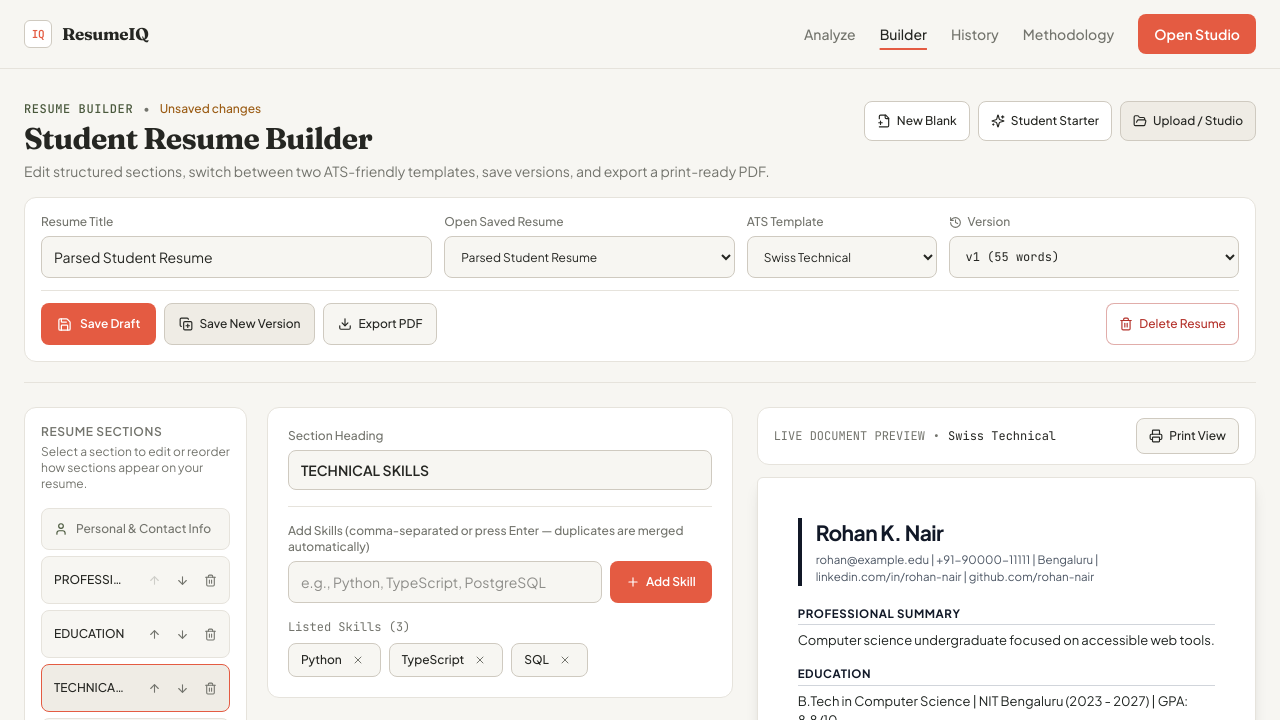
Test: Phase 6 Student Resume Builder › opens an existing parsed resume, supports editing sections, deduplicates skills, reorders, switches templates without content loss, and saves versions
This screenshot has width=1280, height=720.
Earlier steps of the test are not shown.
Later steps or results of the test are not shown.
Step 1. Click the button named "Move TECHNICAL SKILLS up" → [155, 688], box [141, 674, 169, 702]
(page scrolled)
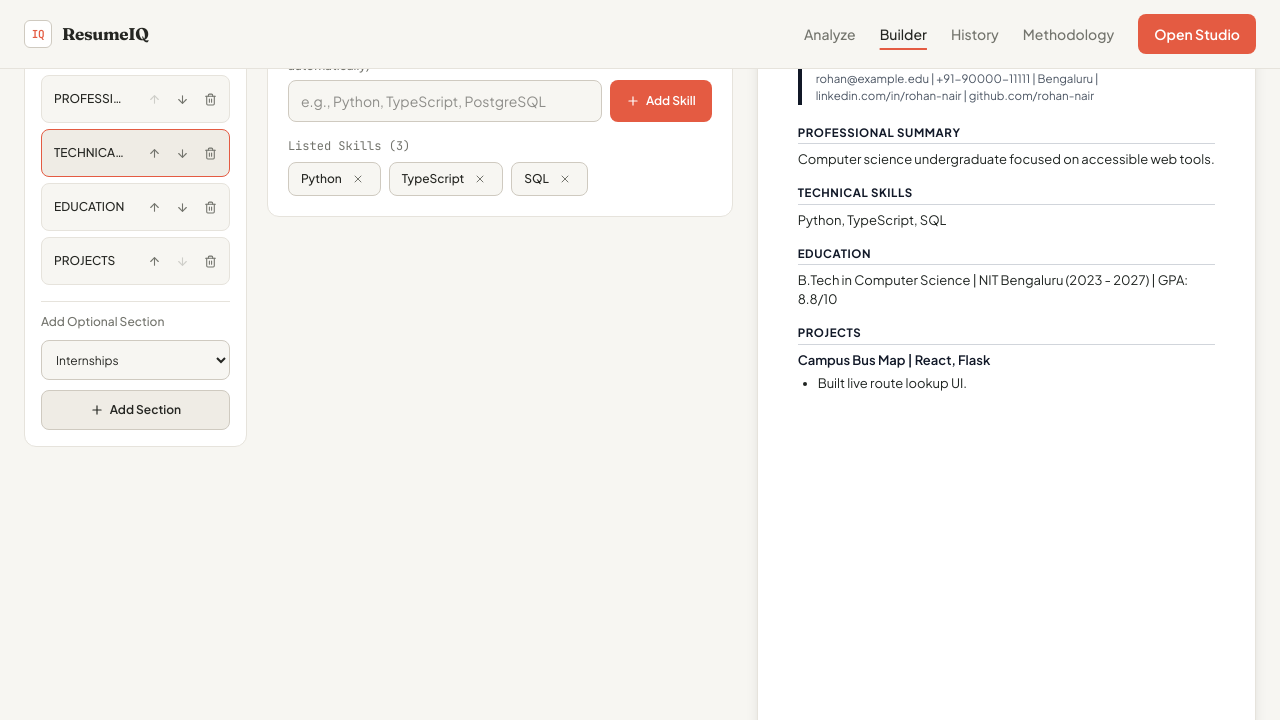
Step 2. Select "Work Experience" in the dropdown labelled "Add Optional Section" → [135, 360], box [41, 340, 230, 380]
Step 3. Click the button "Add Section" → [135, 410], box [41, 390, 230, 430]
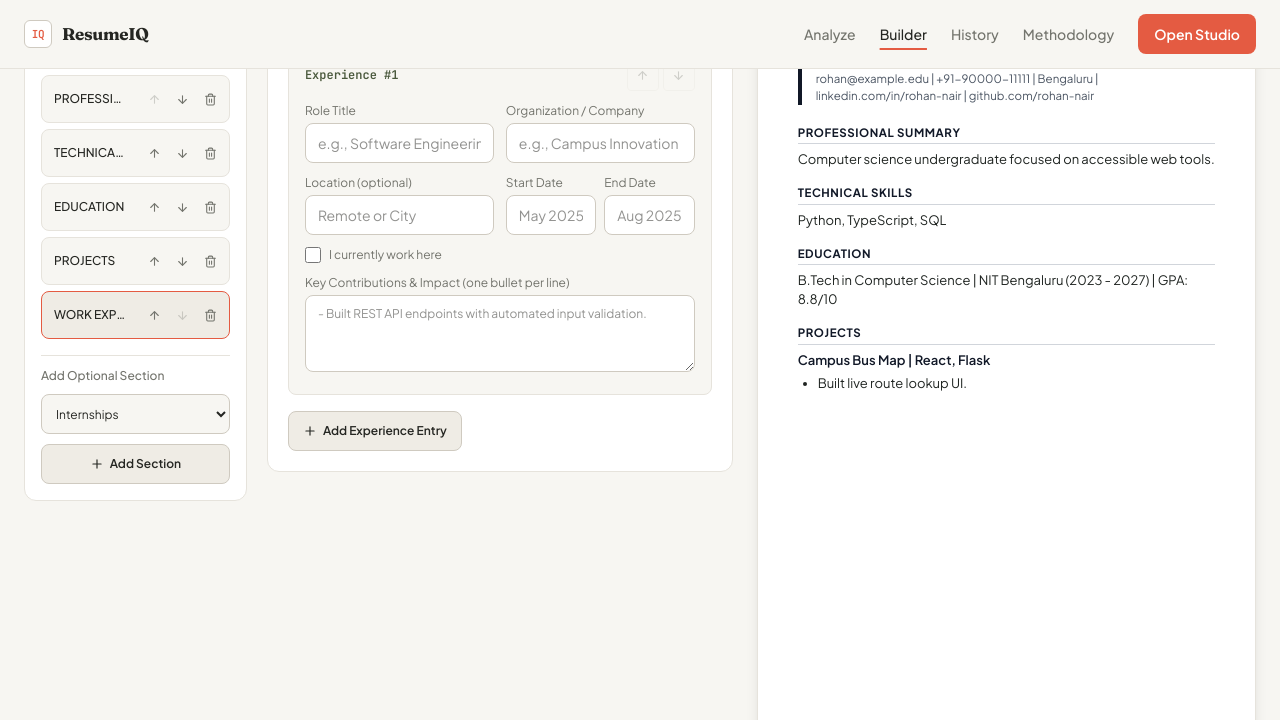
Step 4. Type "Teaching Assistant" into the field labelled "Role Title" → [399, 143], box [305, 123, 494, 163]
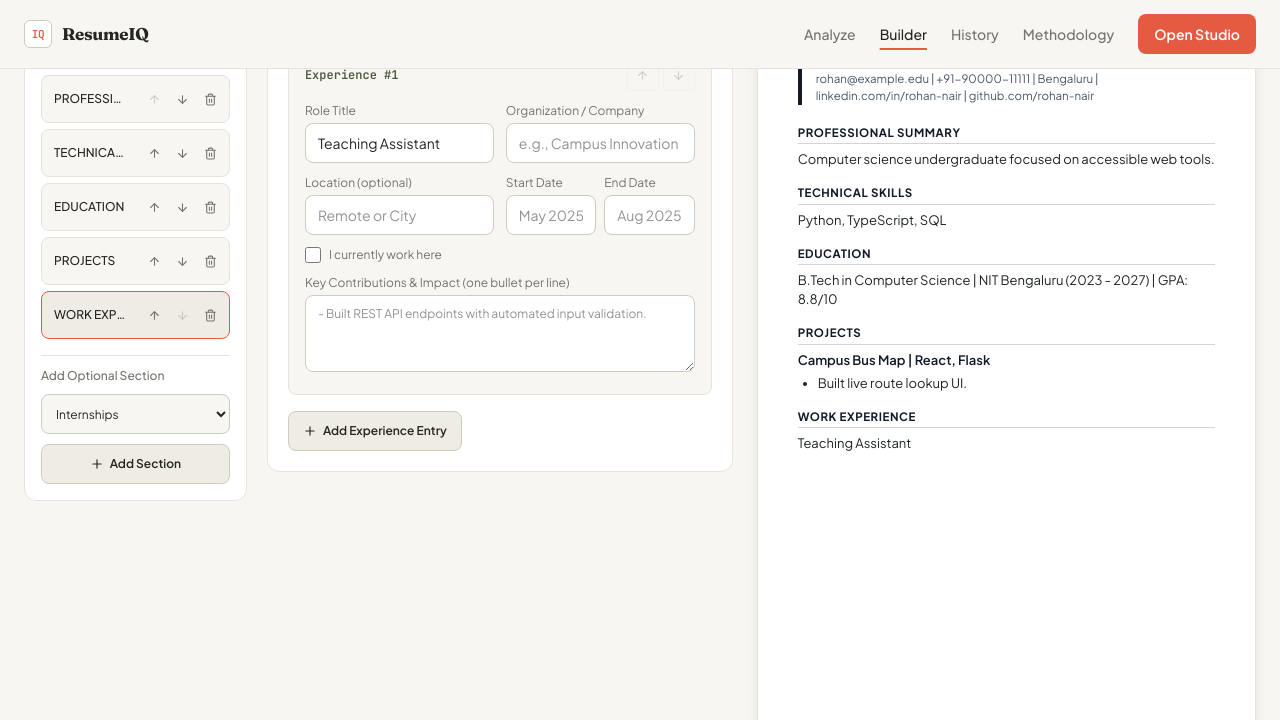
Step 5. Type "CS Department" into the field labelled "Organization / Company" → [600, 143], box [506, 123, 695, 163]
(page scrolled)
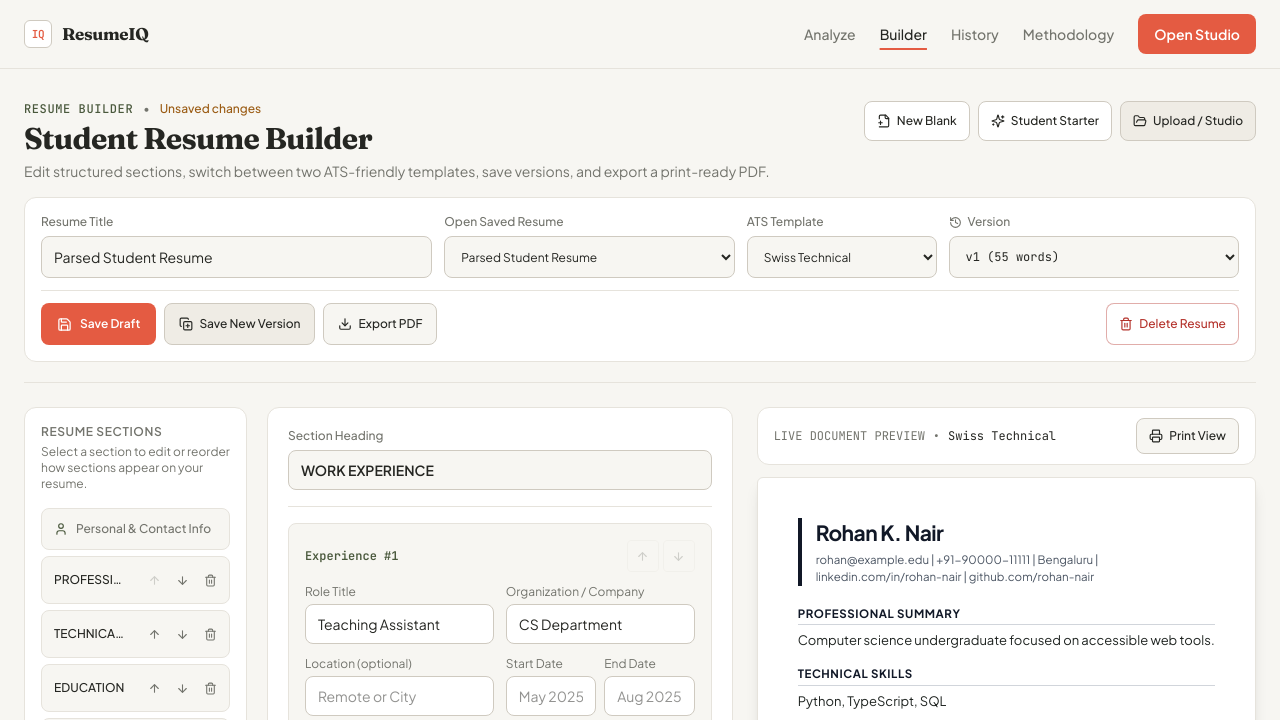
Step 6. Select "Academic Editorial" in the dropdown labelled "ATS Template" → [842, 257], box [747, 236, 936, 278]
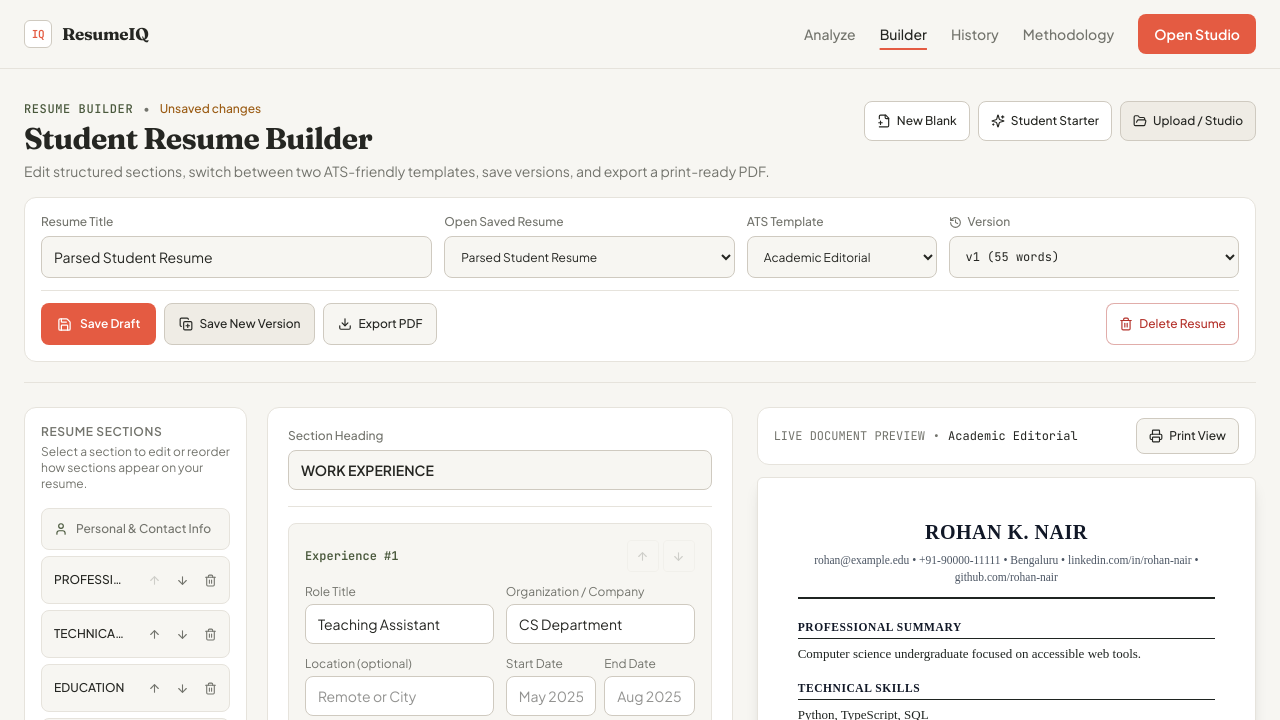
Check: the element with test id "resume-paper-preview" shows "Rohan K. Nair", box [925, 521, 1088, 543]
Step 7. Click the button "Save Draft" → [99, 324], box [41, 303, 156, 345]
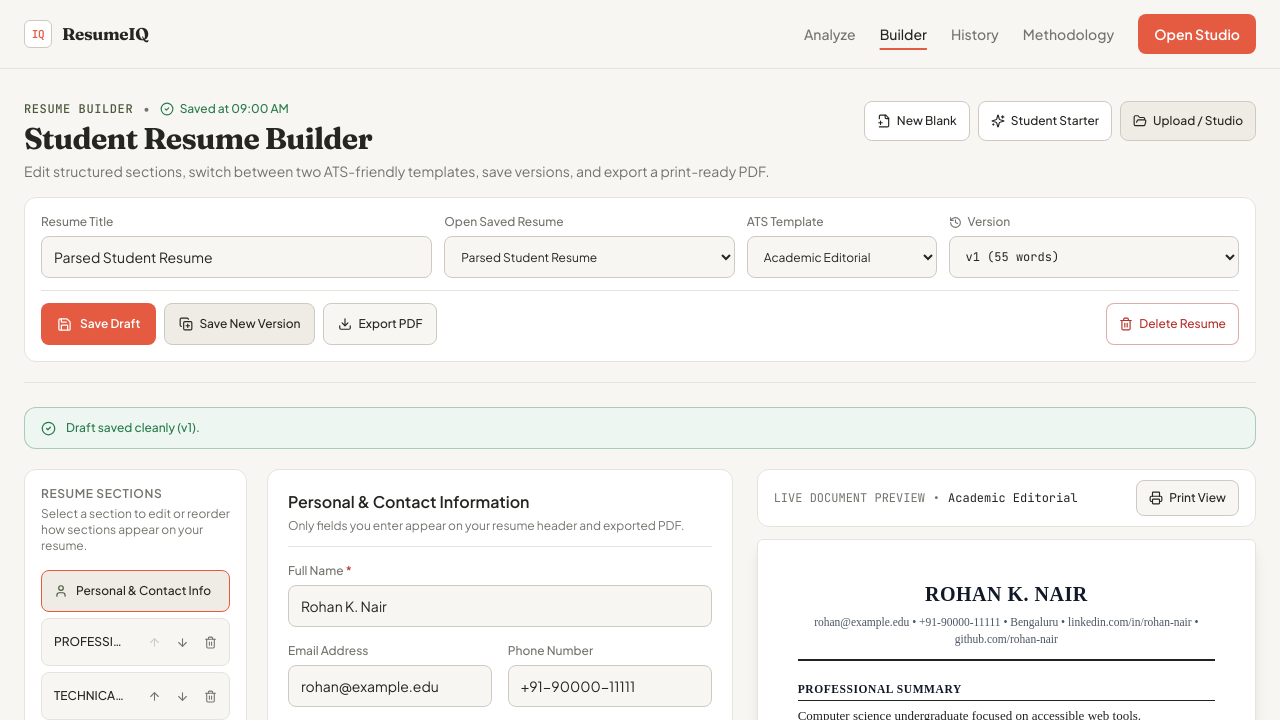
Check: the text "Draft saved cleanly (v1)." is shown, box [66, 420, 200, 436]
